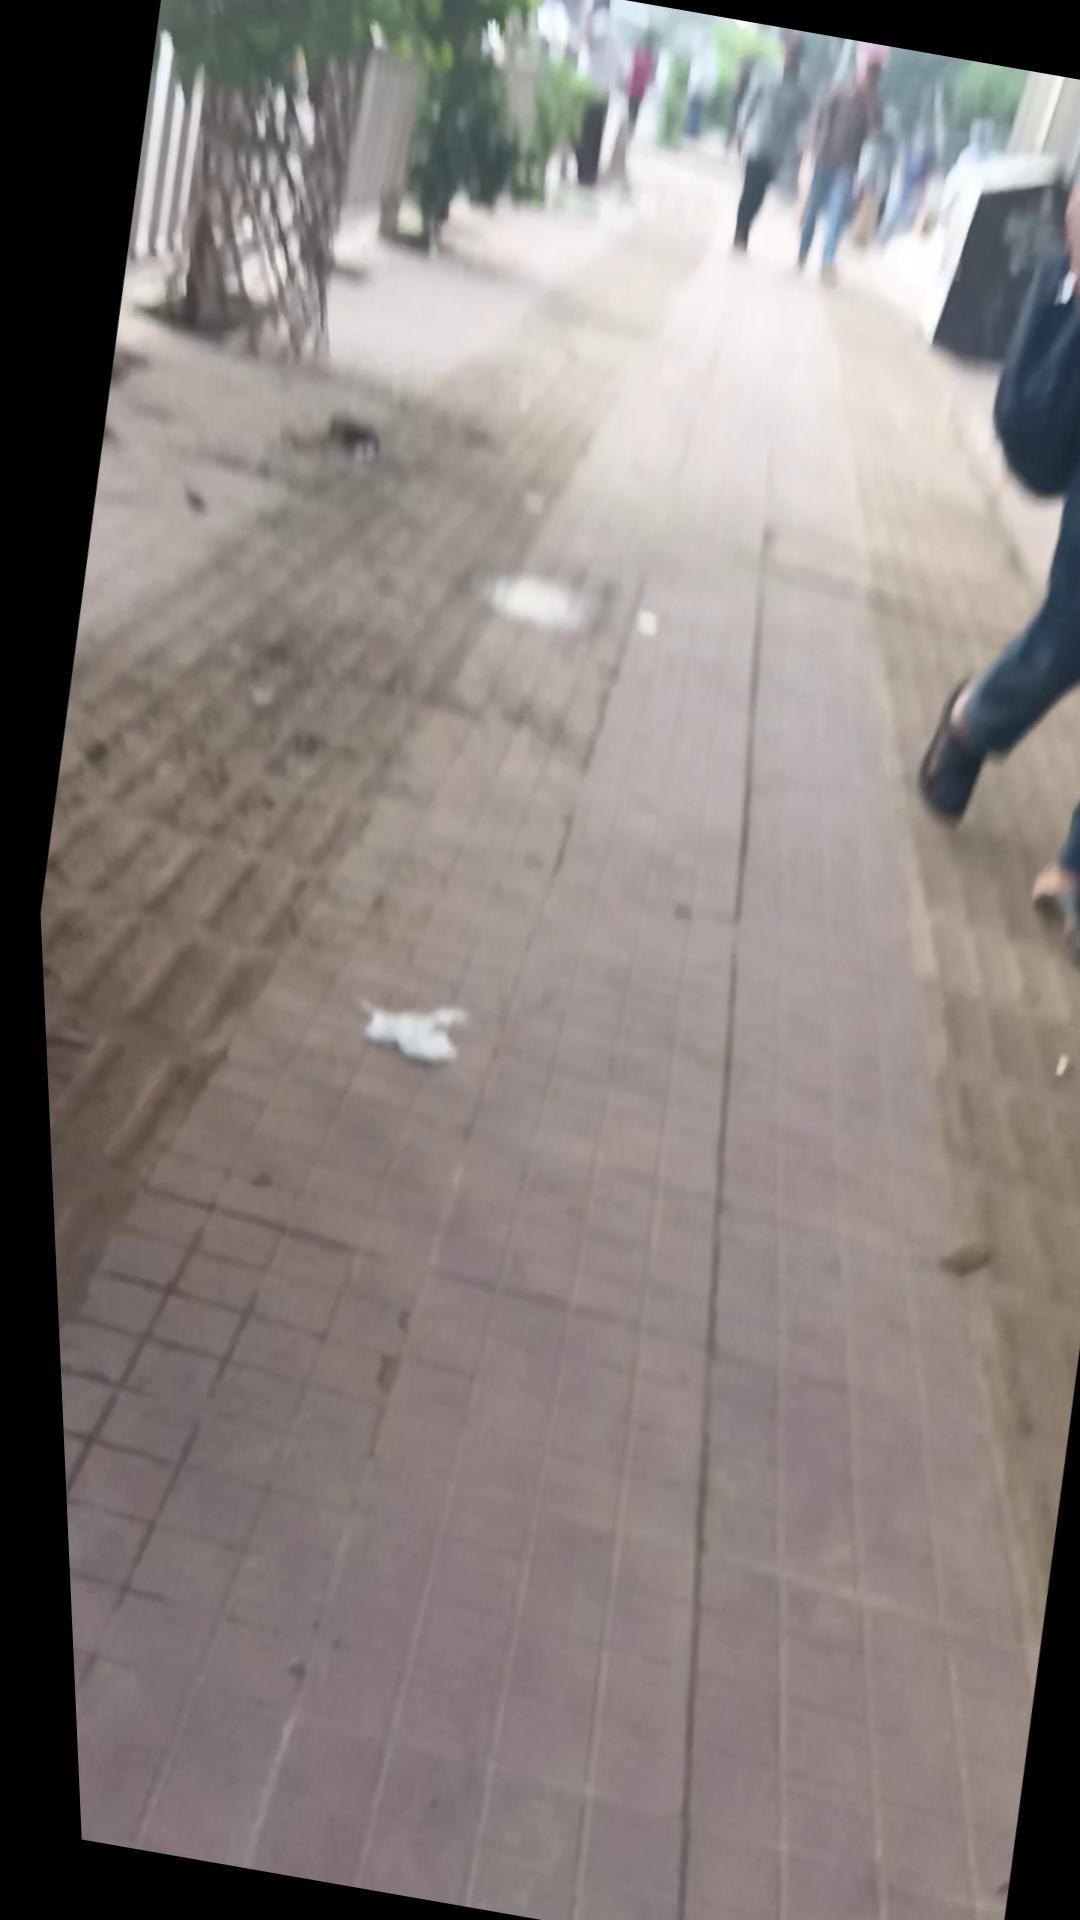Muddy road: (855, 69, 1080, 978)
Potted-plant: (0, 13, 1080, 1920)
